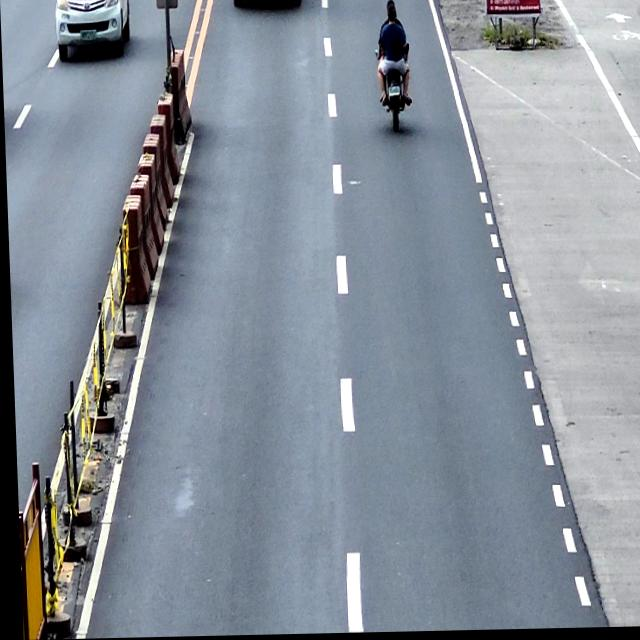Car: (54, 0, 132, 62), (386, 87, 400, 99)
License-Plate: (78, 28, 97, 42)
Motorcycle: (373, 44, 412, 135)
